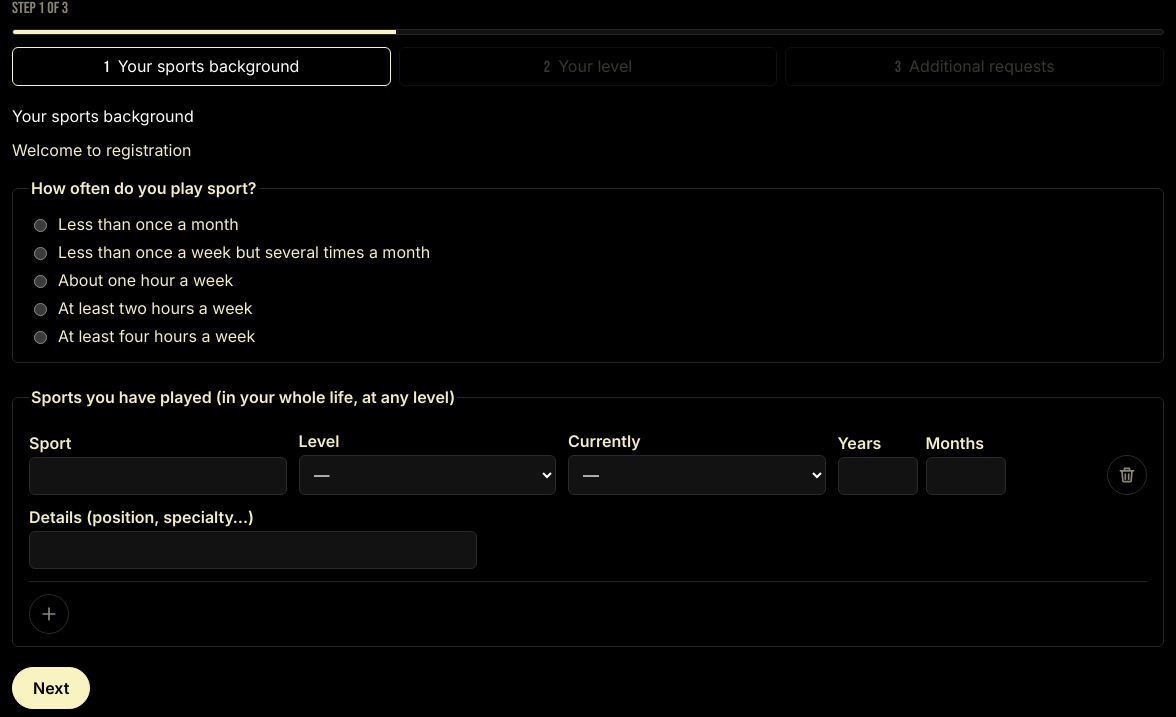
Scenario: RegistrationForm › shows the email read-only, with a way to change it, when the account has a usable one
This screenshot has width=1176, height=717.
Click the radio button labelled "Less than once a month" at (40, 226), box [34, 219, 47, 232]
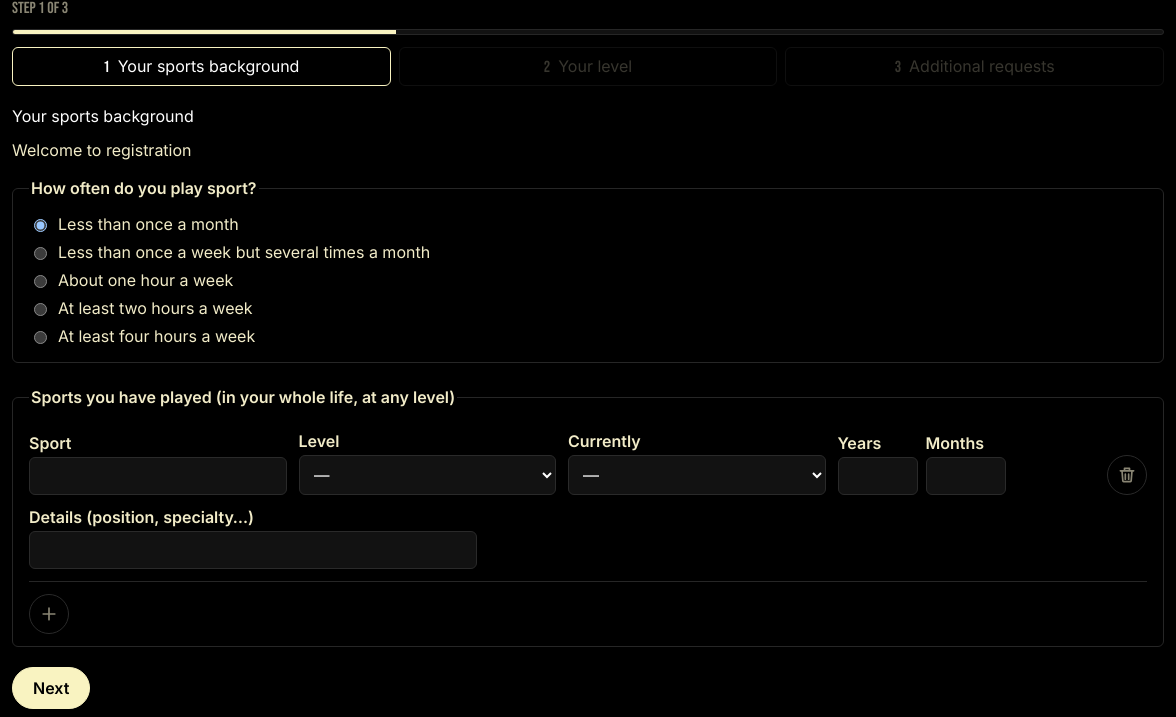
Click the button "Next" at (51, 688), box [12, 667, 90, 709]
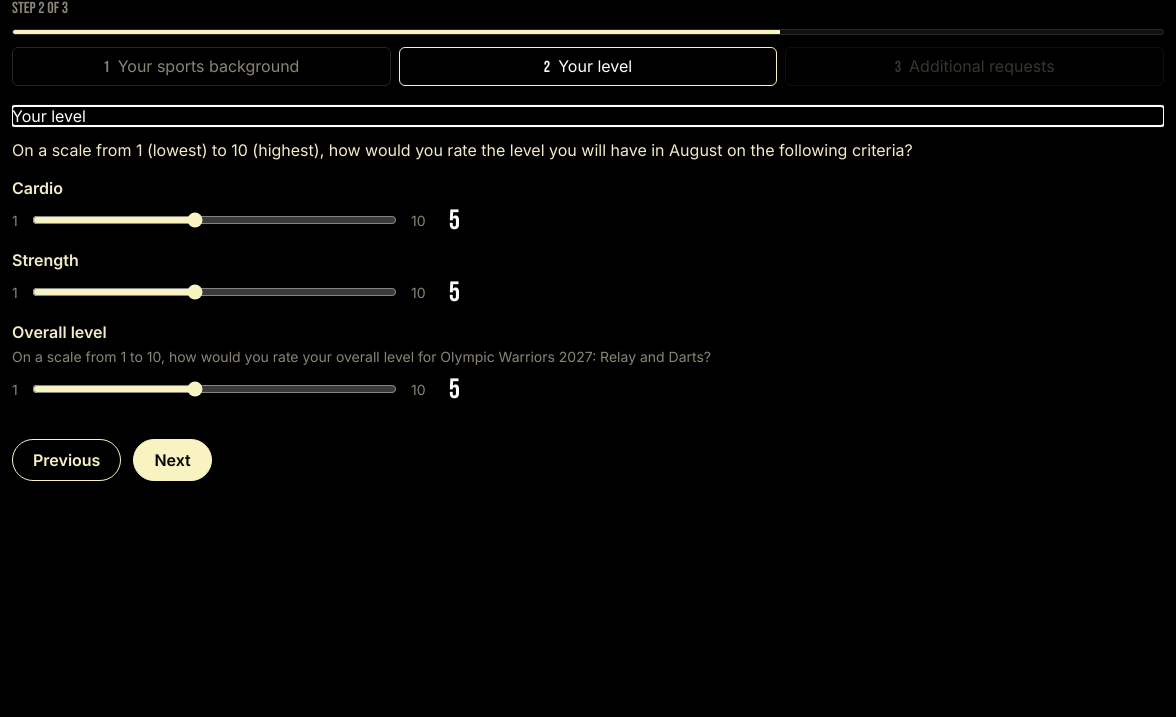
Click the button "Next" at (173, 460), box [133, 439, 212, 481]
(page scrolled)
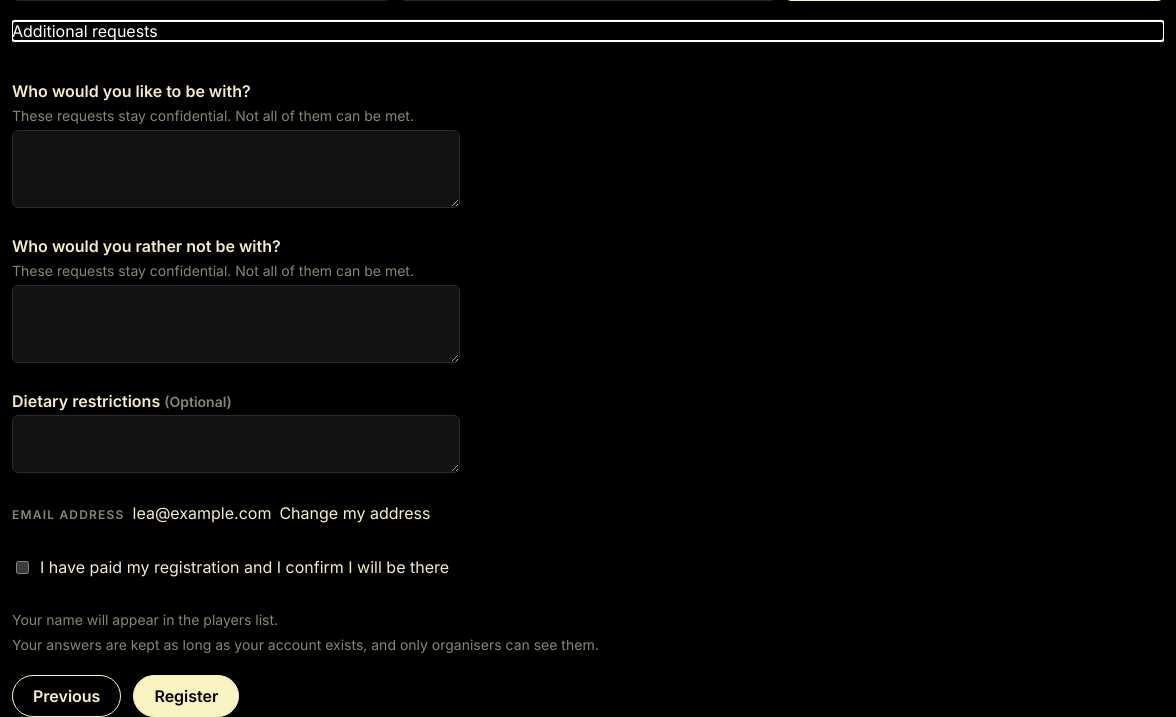
Expected: the text "lea@example.com" is shown, [133, 501, 272, 525]
